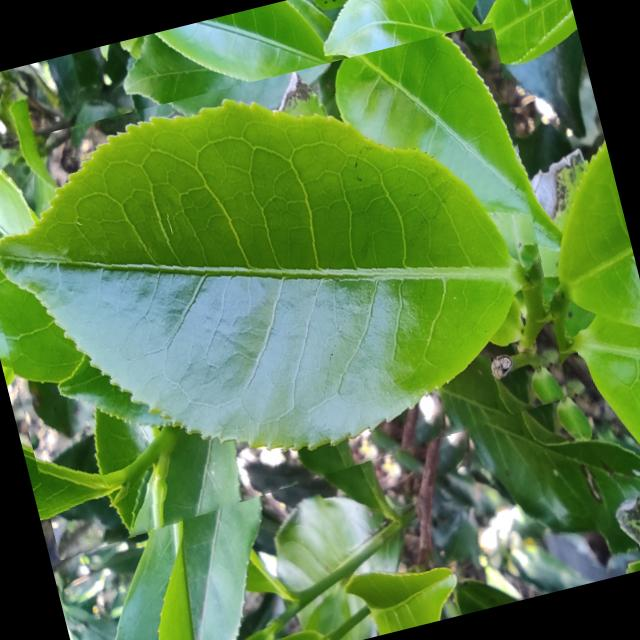Category B(2-4 days): (0, 20, 595, 560)
